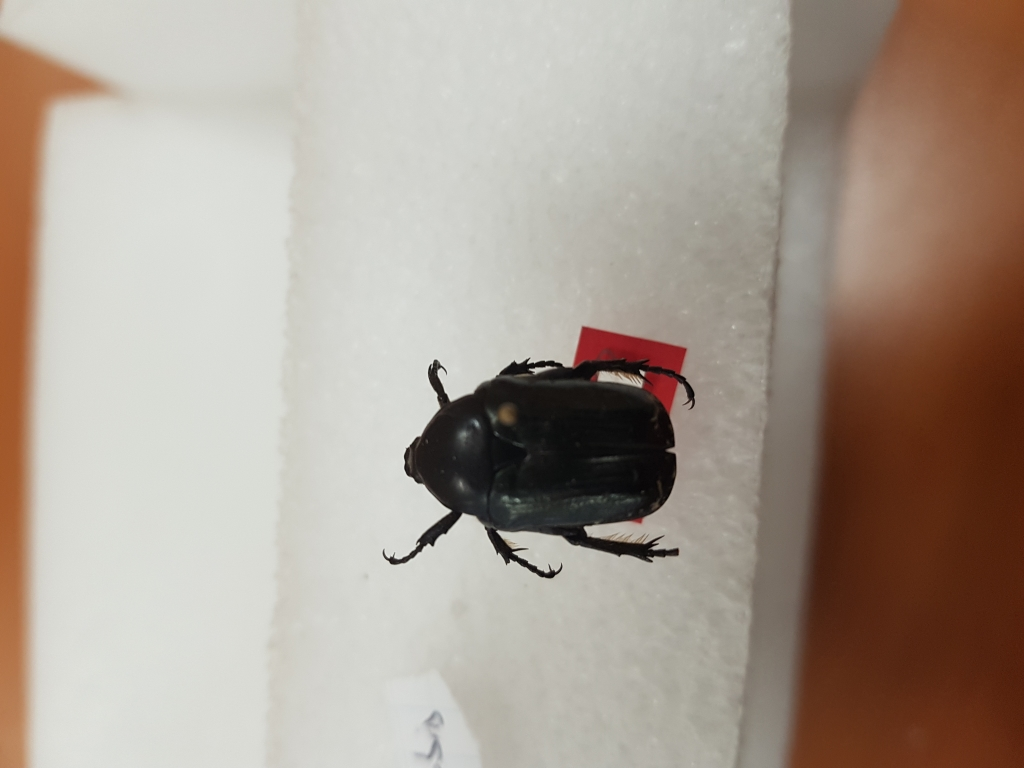Protaetia_funebris_funebris: (384, 348, 700, 589)
